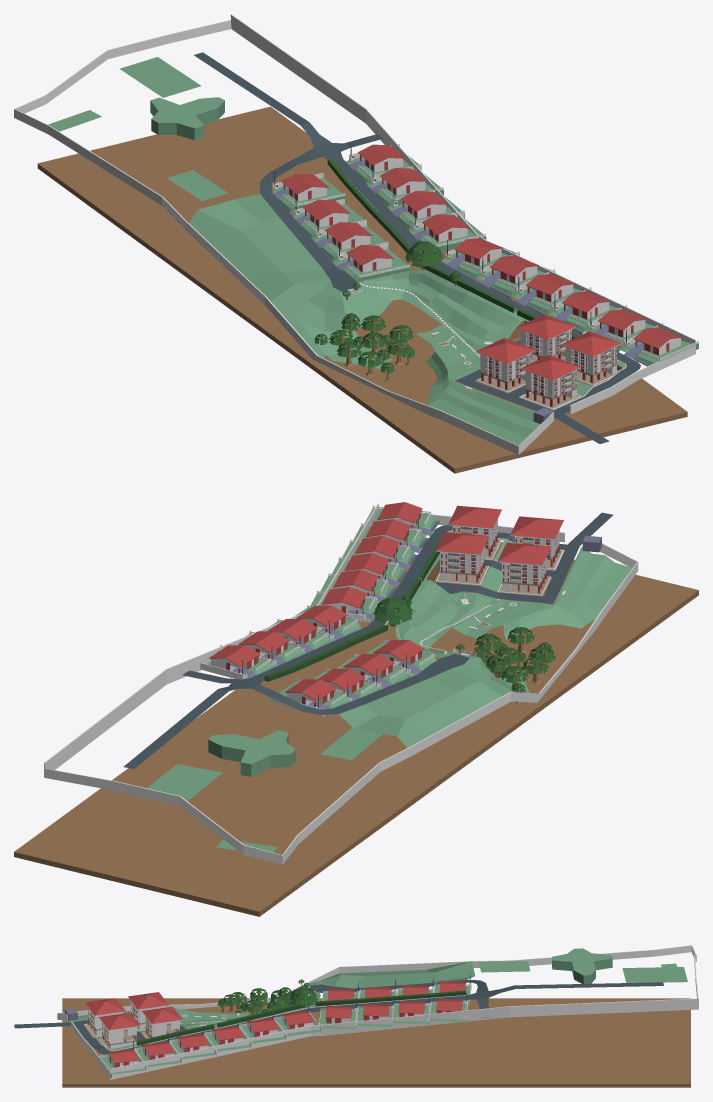
3 views of the same model, one above another, from view 1: azimuth 30°, elevation 25°; view 2: azimuth 150°, elevation 25°; view 3: azimuth 270°, elevation 25° (orthographic). The views are drawn at different scales.
Visible parts, largest first — view 1: Length-310m, grama, muro, rua, clube, red.001, red.003, red.004, cerca-casa.011, red.005, cerca-casa.014, cerca-viva (+13 smaller); view 2: Length-310m, grama, muro, rua, clube, red.005, red.003, cerca-casa.010, red.004, red.001, cerca-casa.014, cerca-viva (+13 smaller); view 3: Length-310m, muro, grama, rua, clube, cerca-viva, red.004, red.005, red.001, red.003, cerca-casa.007, cerca-casa.005 (+14 smaller).
Boxes of the visible parts, x1,y1,x2,y2 form: Length-310m: (37, 106, 687, 473); grama: (189, 194, 625, 445); muro: (14, 14, 695, 454); rua: (193, 52, 640, 443); clube: (48, 57, 227, 200); red.001: (520, 354, 581, 409); red.003: (475, 338, 536, 392); red.004: (561, 331, 621, 386); cerca-casa.011: (333, 242, 410, 282); red.005: (516, 314, 576, 362); cerca-casa.014: (272, 171, 345, 213); cerca-viva: (327, 158, 577, 339); Length-310m: (14, 542, 698, 916); grama: (339, 531, 632, 747); muro: (44, 503, 638, 864); rua: (123, 512, 613, 768); clube: (137, 728, 382, 852); red.005: (435, 532, 489, 585); red.003: (497, 542, 551, 596); cerca-casa.010: (200, 645, 273, 679); red.004: (448, 505, 501, 559); red.001: (510, 516, 563, 569); cerca-casa.014: (268, 679, 349, 715); cerca-viva: (264, 539, 440, 681); Length-310m: (62, 998, 690, 1087); muro: (57, 945, 698, 1079); grama: (67, 961, 475, 1050); rua: (14, 979, 663, 1054); clube: (478, 948, 687, 983); cerca-viva: (136, 990, 466, 1045); red.004: (99, 1012, 139, 1049); red.005: (142, 1006, 182, 1038); red.001: (85, 998, 125, 1037); red.003: (128, 992, 168, 1031); cerca-casa.007: (318, 998, 357, 1029); cerca-casa.005: (239, 1009, 286, 1043).
Size of the model in its own units: 129 by 41.7 by 338.
